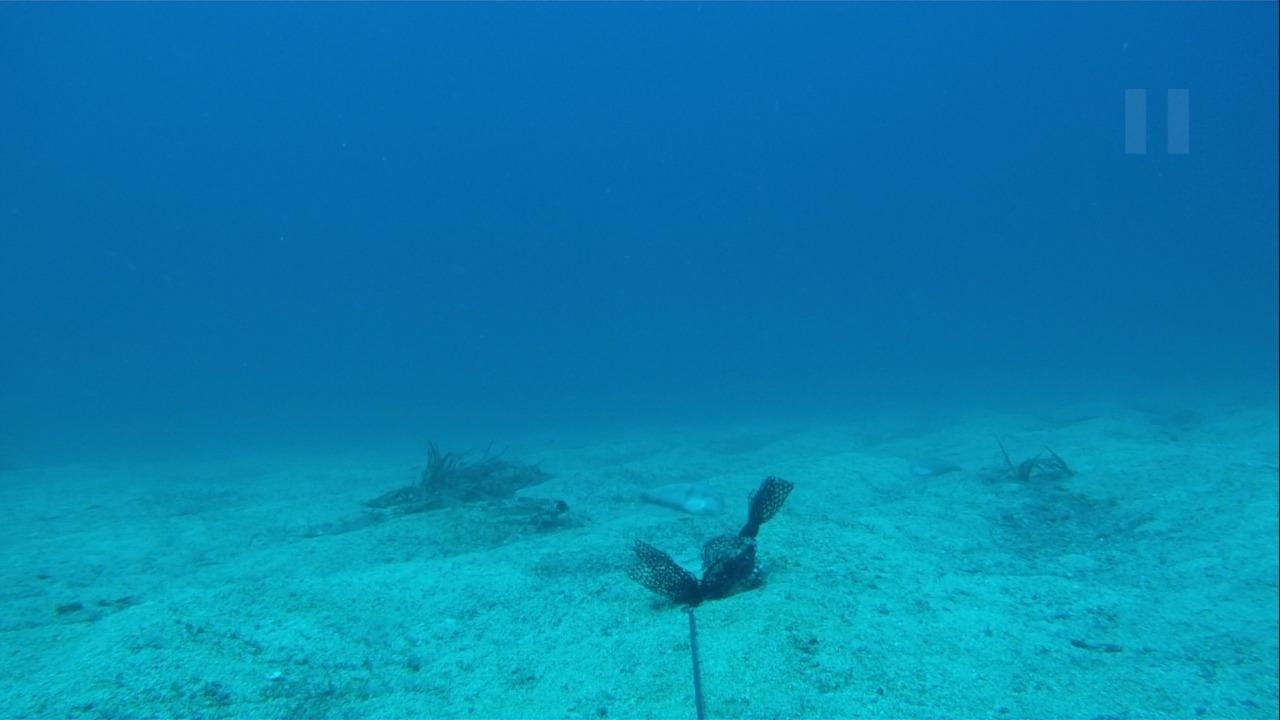dactylopterus: (418, 487, 575, 534)
raor: (628, 475, 730, 526), (901, 458, 964, 480)
